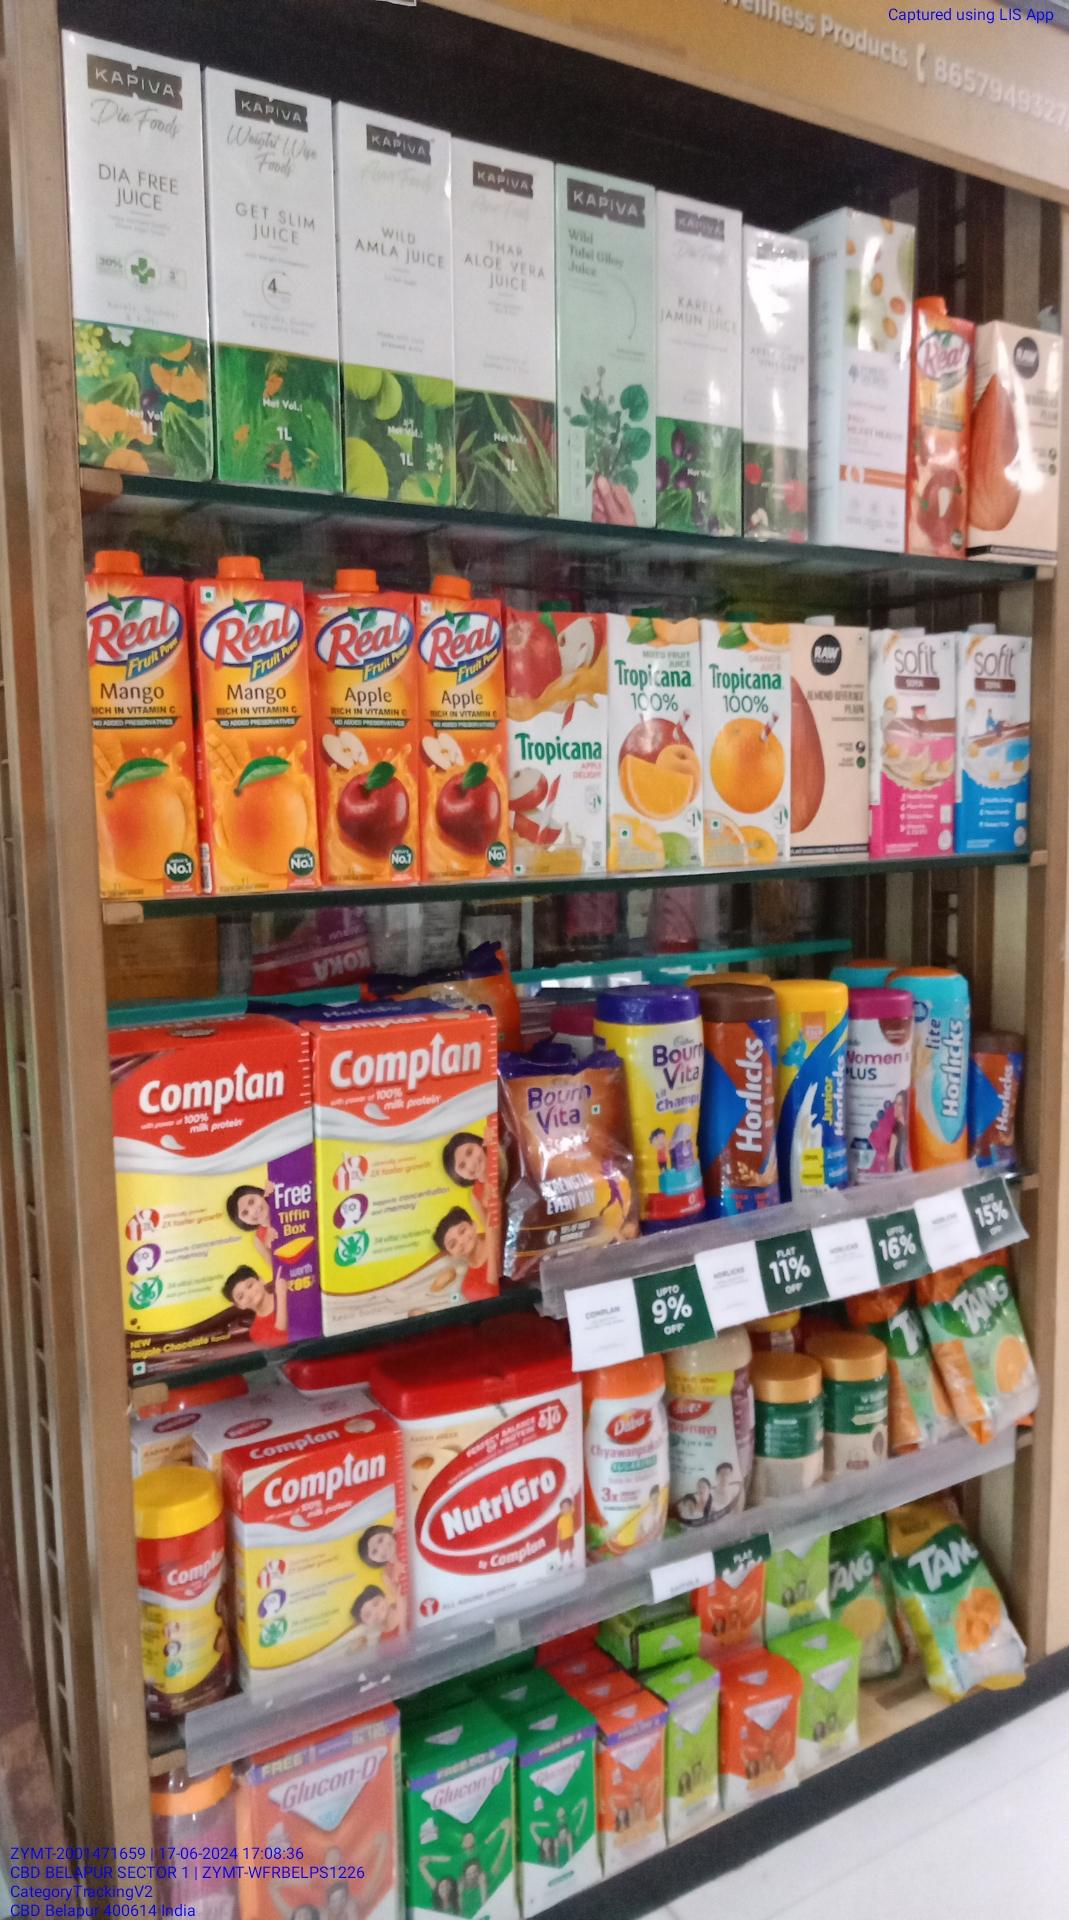BOURN_VITA_CHAMPS_500_G_JAR: (635, 992, 706, 1225)
BOURN_VITA_FIVE_STAR_MAGIC_500_G_POUCH: (504, 1061, 629, 1255)
COMPLAN_CHOCOLATE_500_GMS_PACK: (121, 1038, 316, 1358)
COMPLAN_KESAR_BADAM_500_GMS_PACK: (321, 1020, 494, 1320), (248, 1448, 411, 1691)
HORLICKS_JUNIOR_VANILLA_500_GM_JAR: (779, 975, 848, 1198)
HORLICKS_LITE_REGULAR_MALT_500_GM_JAR: (910, 966, 972, 1170)
HORLICK_CHOCOLATE_200_G_JAR: (974, 1032, 1026, 1161)
HORLICK_CHOCOLATE_500_G_JAR: (708, 982, 779, 1212)
